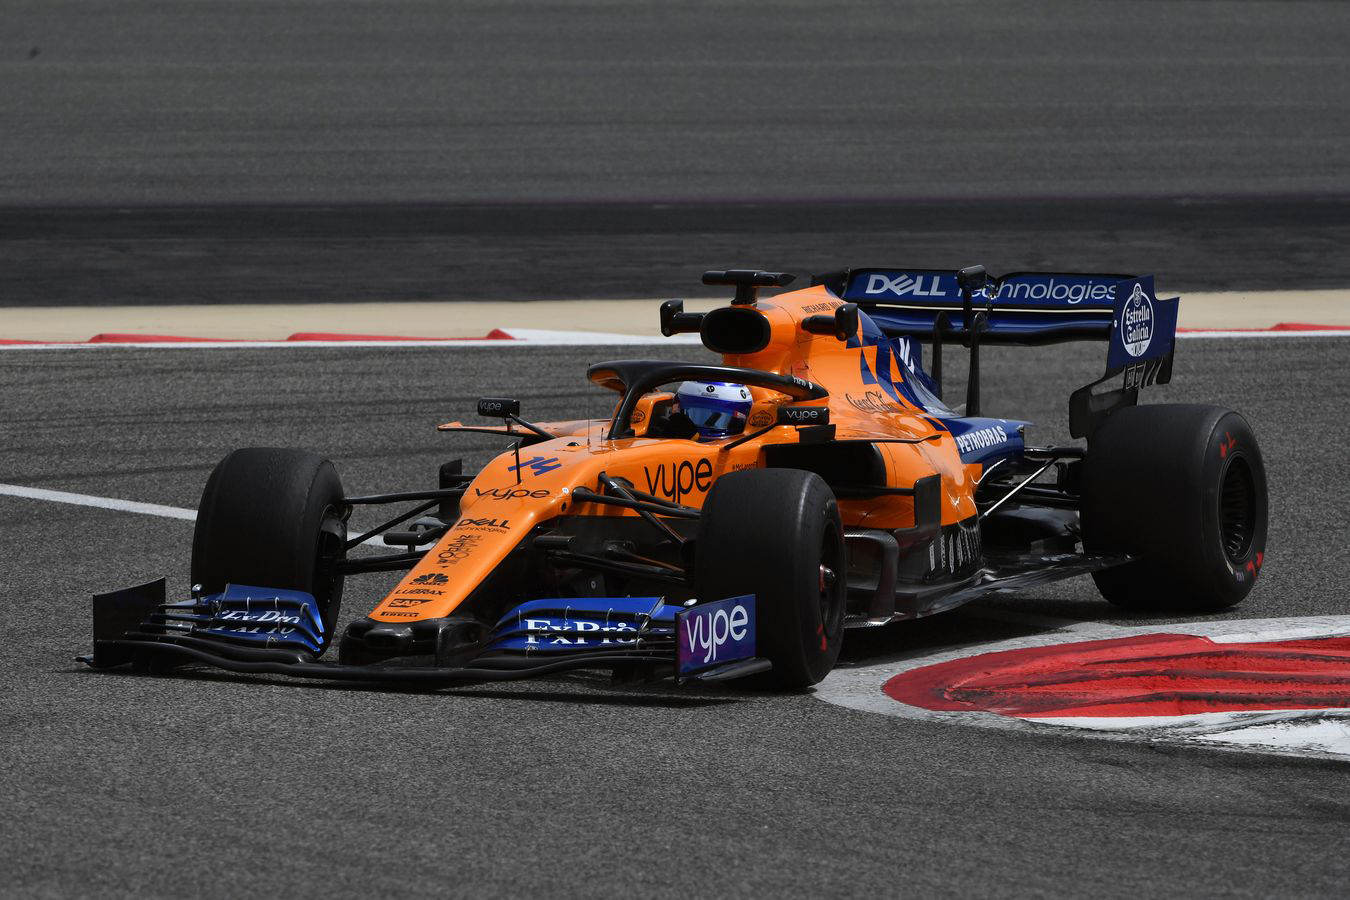F1 Car: (81, 257, 1281, 710)
